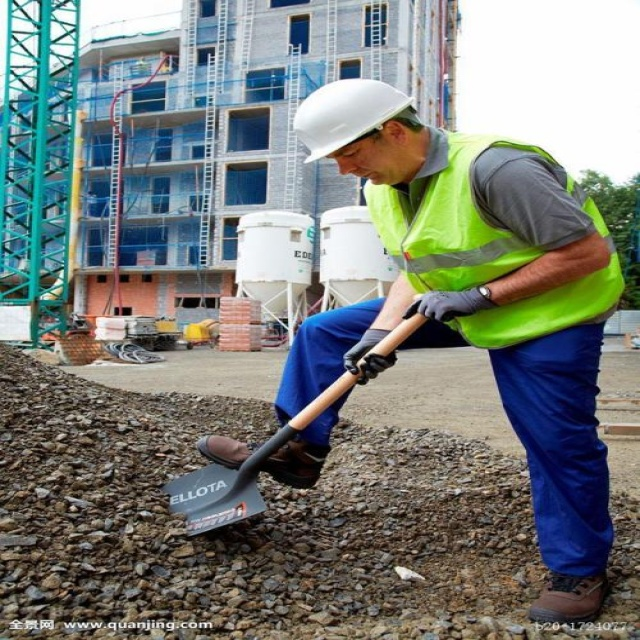Helmet: (287, 67, 430, 195)
Reflective vest: (361, 133, 629, 355)
